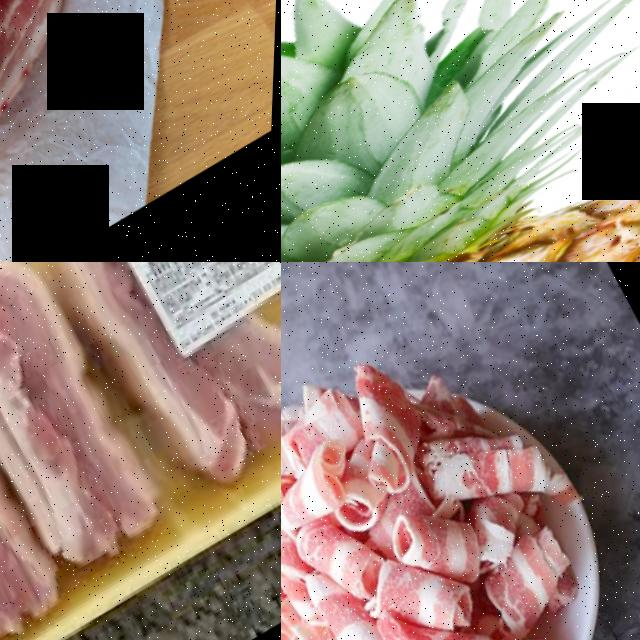pineapple: (281, 32, 640, 262)
pork belly: (11, 262, 259, 527), (0, 262, 184, 594), (0, 285, 78, 640), (409, 401, 564, 551), (378, 548, 575, 640), (281, 554, 446, 640), (281, 434, 377, 550)
